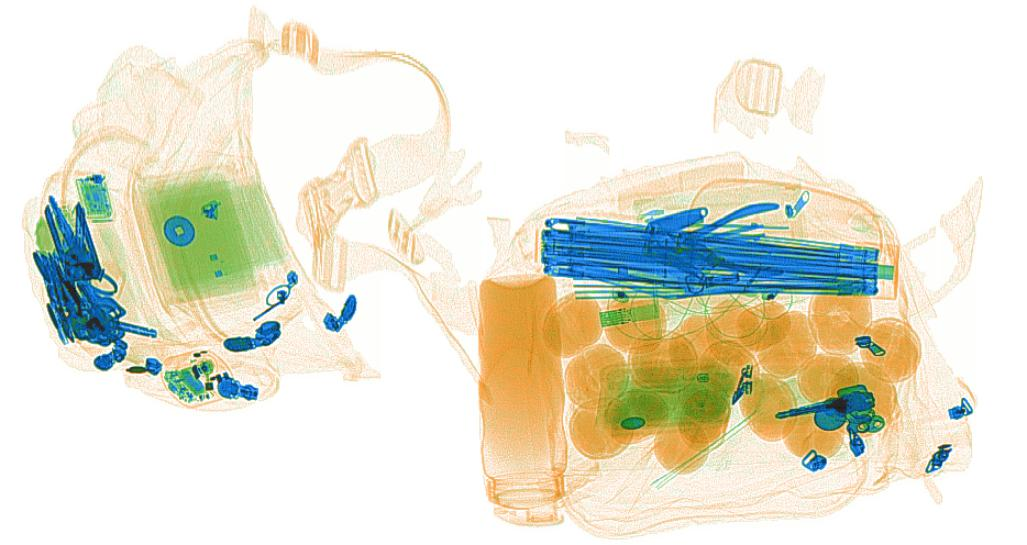USBFlashDisk: (599, 297, 660, 328)
